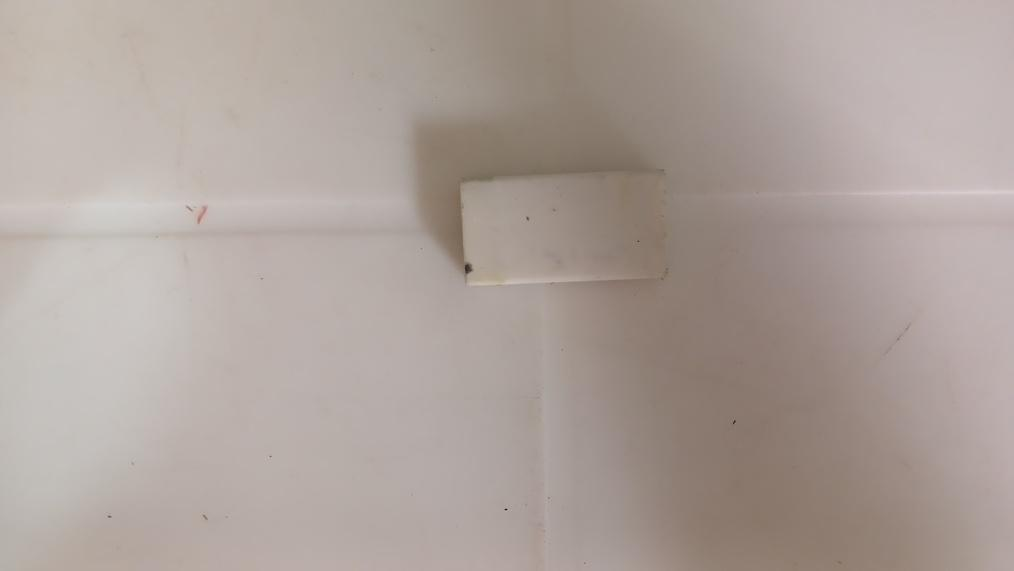Eraser: (453, 167, 663, 288)
